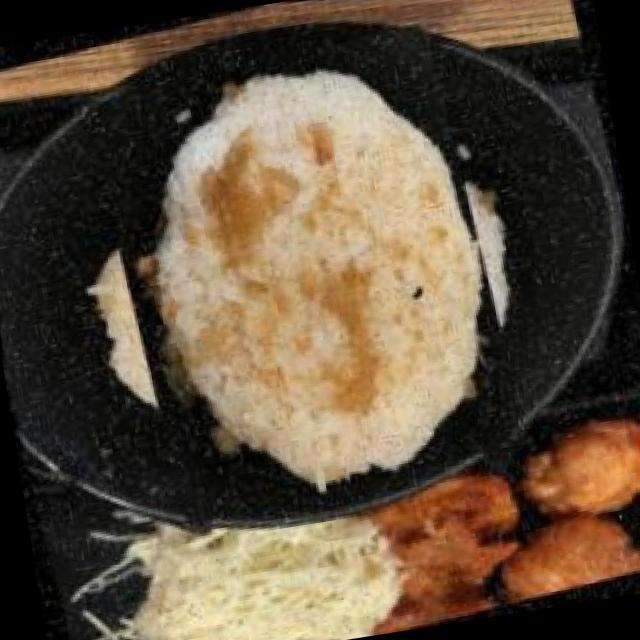rice: (31, 0, 580, 549)
